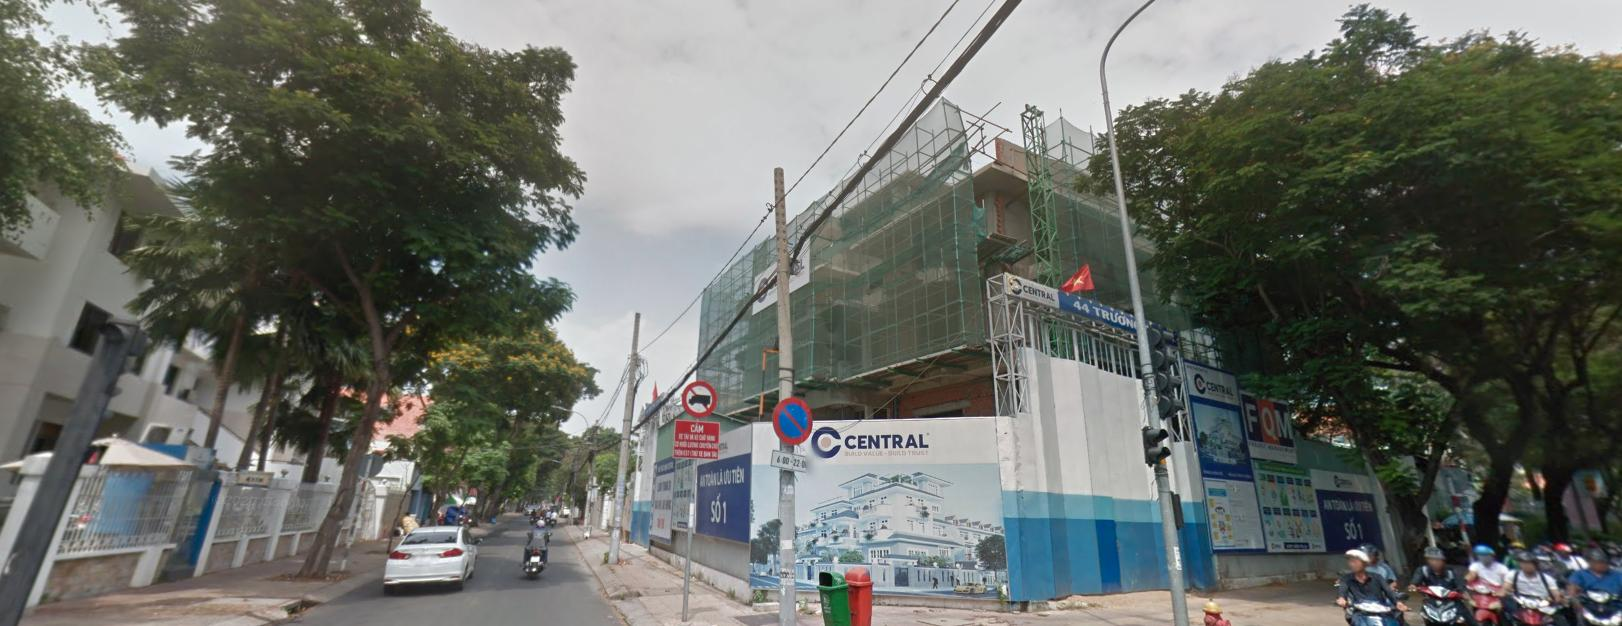Cam con lai: (681, 380, 716, 414)
Cam dung va do: (771, 395, 813, 444)
